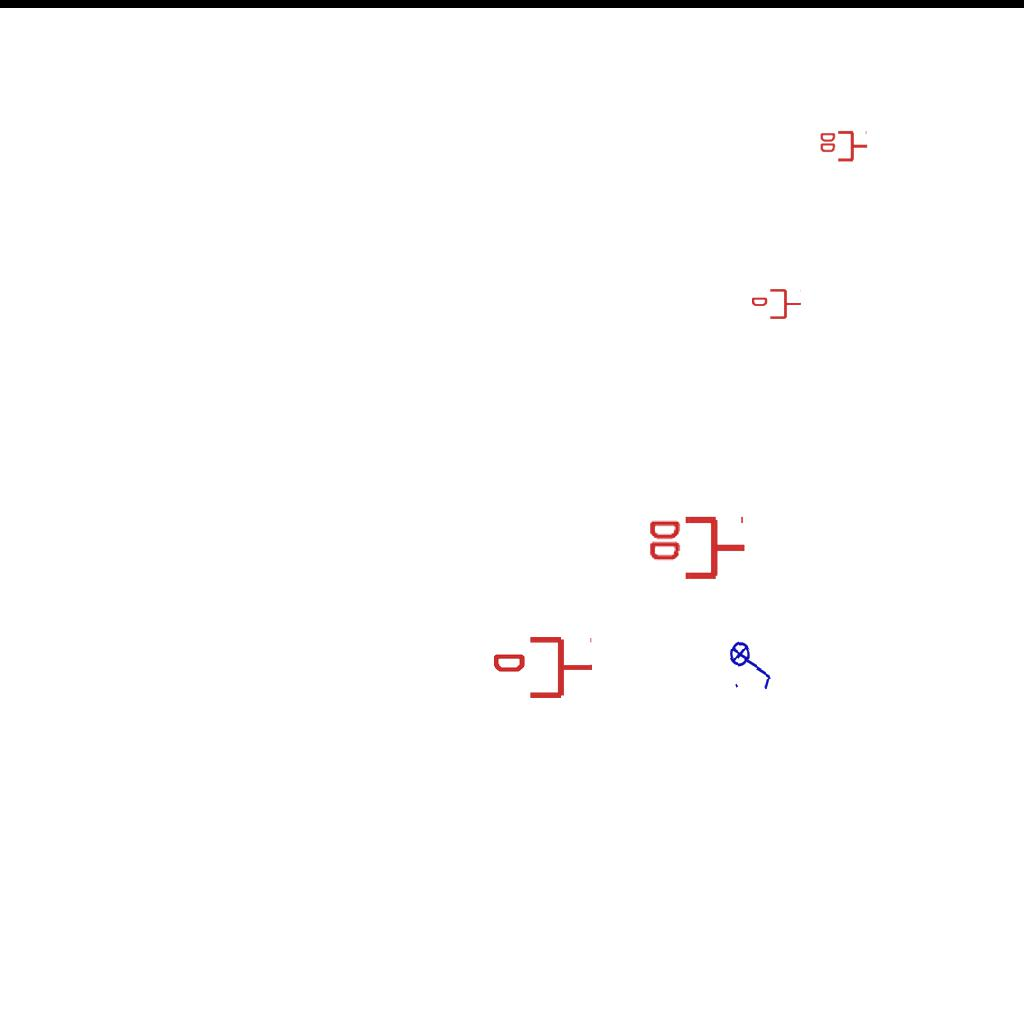Ausschalter_beleuchtet: (725, 633, 779, 695)
Datenanschluss_einfach: (494, 633, 594, 702), (752, 287, 802, 321)
Datenanschluss_zweifach: (645, 515, 748, 584), (818, 130, 869, 164)
